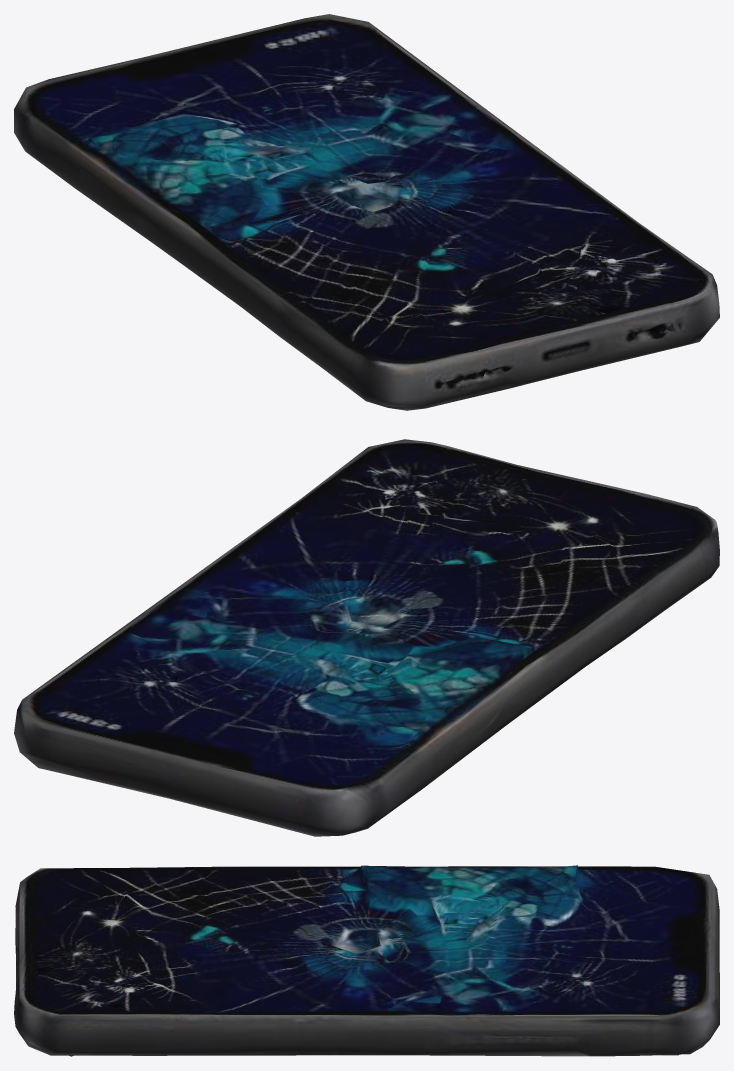
Rendered from smartphone.glb.
The picture shows the model from 3 angles, top to bottom: view 1: azimuth 30°, elevation 25°; view 2: azimuth 150°, elevation 25°; view 3: azimuth 270°, elevation 25°; orthographic projection. The views are drawn at different scales.
Parts seen in each view (by area): view 1: tripo_node_1435af10-db06-42ca-92af-e2b403d77578; view 2: tripo_node_1435af10-db06-42ca-92af-e2b403d77578; view 3: tripo_node_1435af10-db06-42ca-92af-e2b403d77578.
Boxes of the visible parts, bbox=[...] form: tripo_node_1435af10-db06-42ca-92af-e2b403d77578: bbox=[14, 14, 719, 410]; tripo_node_1435af10-db06-42ca-92af-e2b403d77578: bbox=[14, 439, 719, 836]; tripo_node_1435af10-db06-42ca-92af-e2b403d77578: bbox=[14, 865, 719, 1056].
Bounding box in the file's own units: 0.8917 × 0.15 × 1.69.
1 material, 1 textured.
